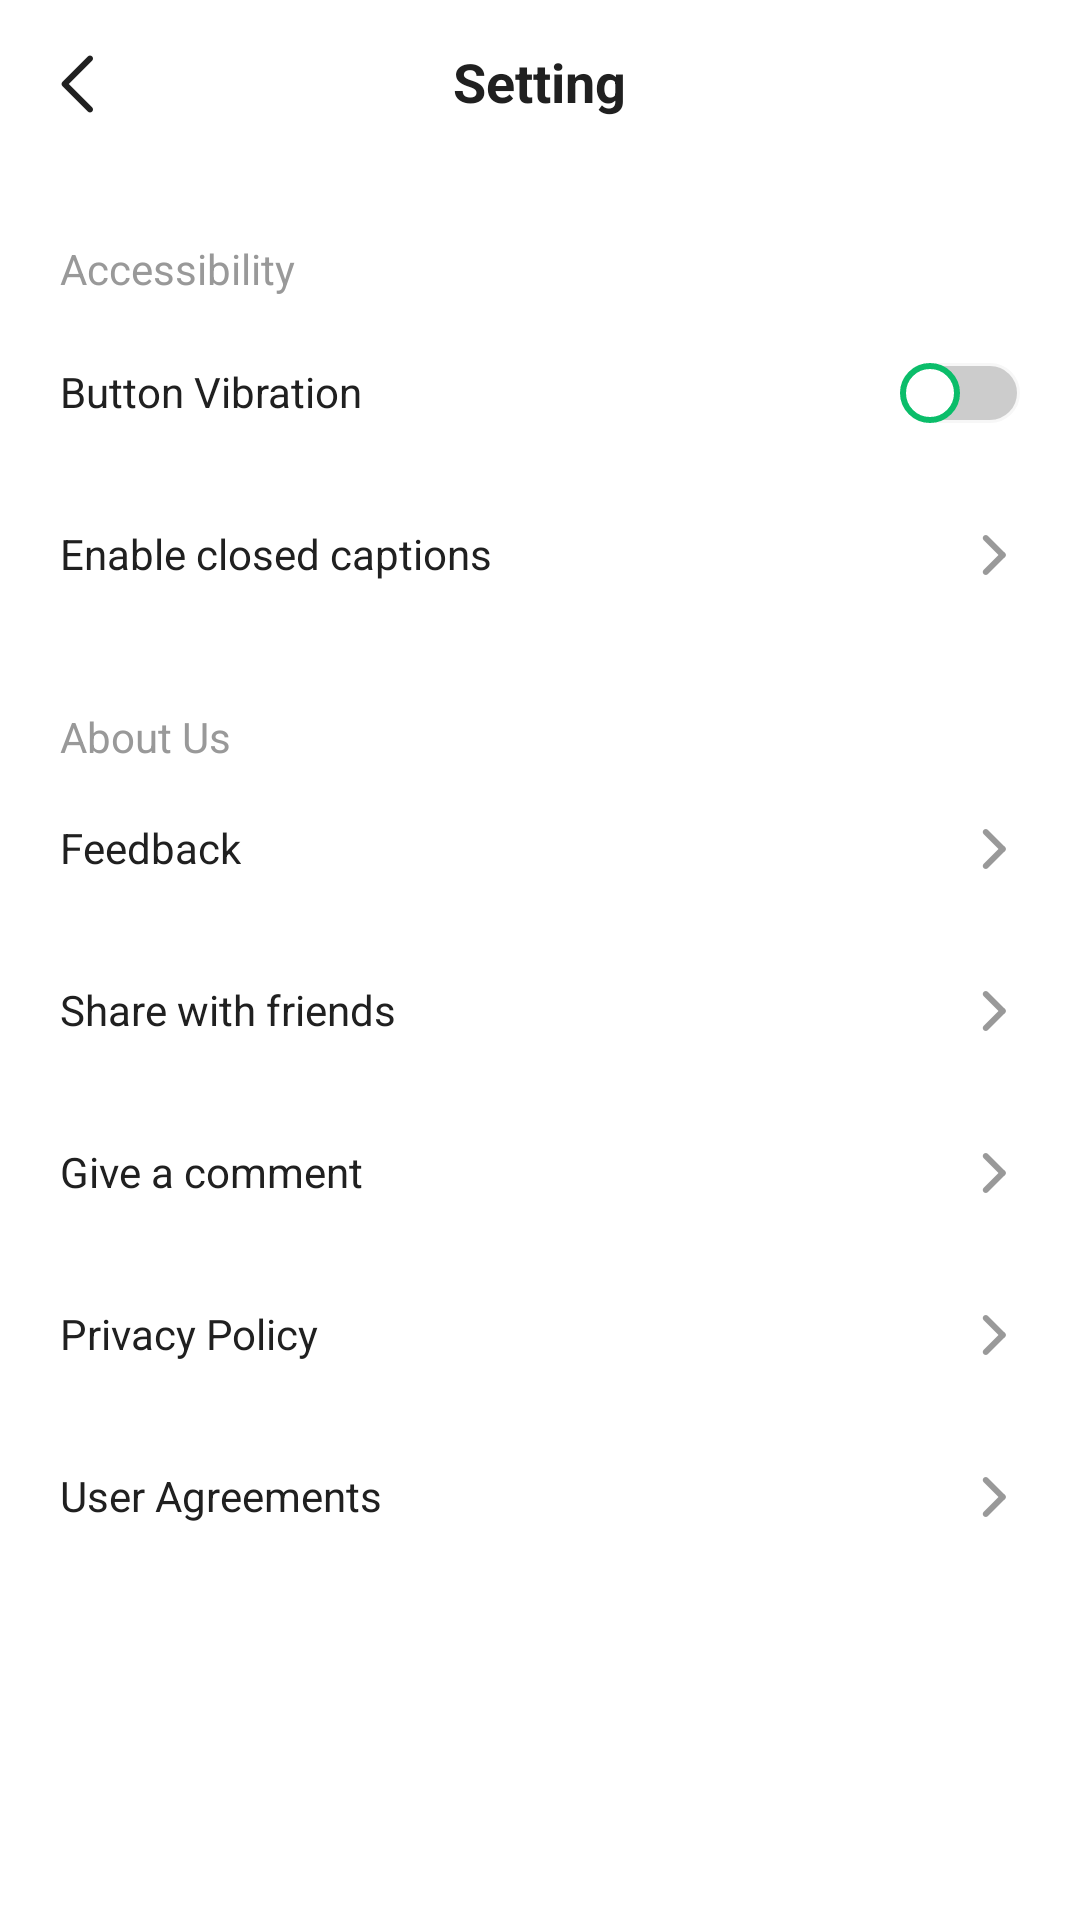

Where to tap for icons on this 1080w x 1920h app screen, as (x=x, y=y):
back device management: (x=77, y=84)
next setting: (x=994, y=555), (x=994, y=849), (x=994, y=1011), (x=994, y=1173), (x=994, y=1335), (x=994, y=1497)
